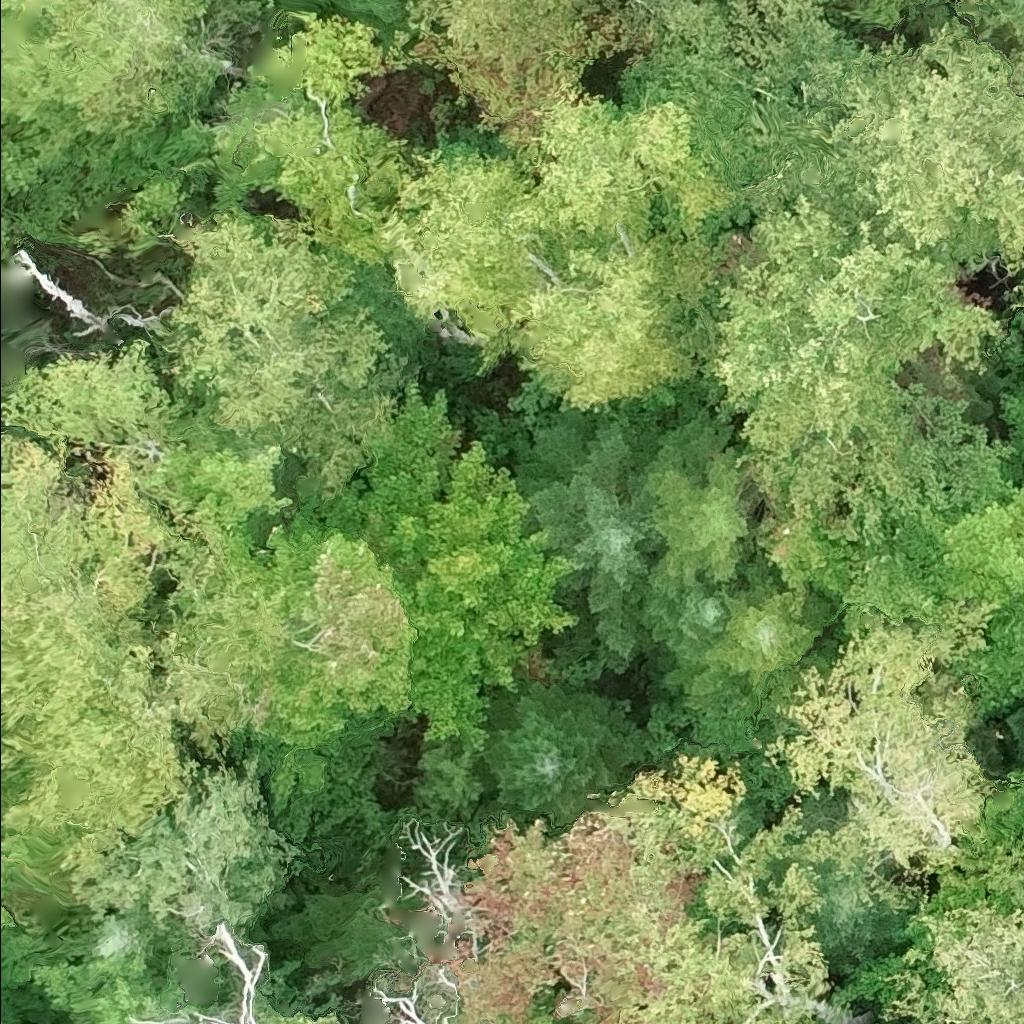crown: (293, 378, 578, 756), (709, 188, 1002, 458), (603, 0, 864, 228), (763, 616, 995, 870), (803, 13, 1023, 273), (608, 752, 808, 1023), (491, 406, 663, 681), (228, 517, 418, 748), (510, 81, 743, 265), (756, 485, 1023, 639), (516, 226, 721, 419), (379, 143, 563, 354), (663, 559, 848, 715), (464, 673, 642, 831), (878, 872, 1023, 1023), (640, 416, 748, 596), (408, 0, 599, 79), (808, 864, 912, 964), (642, 587, 724, 664), (753, 1008, 793, 1023), (802, 1015, 822, 1023), (1021, 861, 1023, 870), (1022, 901, 1023, 905)
